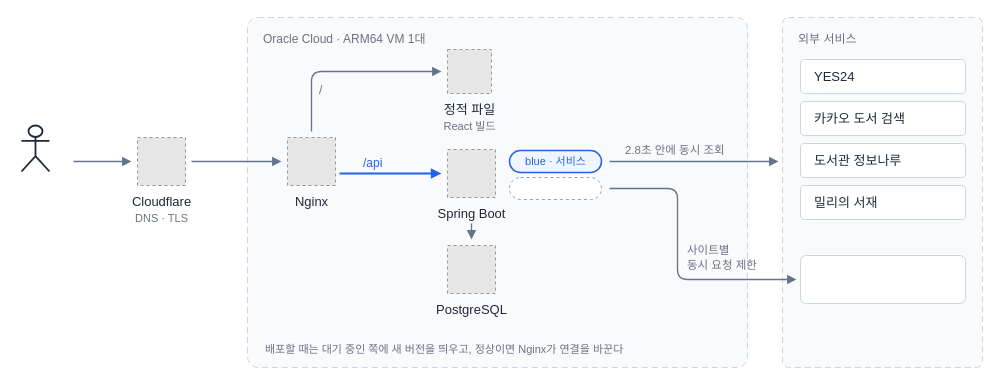
The diagram is 1001 pixels wide and 385 high, and some of its shapes have lost their labels. Grey dashed boxes stand in for pictures. Here are the shapes that lost their labels. From the top down, the centre of each, then its label:
At pixel 35 148: "사용자".
At pixel 555 188: "green · 대기".
At pixel 883 279: "전자도서관 사이트 교보 · 북큐브 플랫폼".
